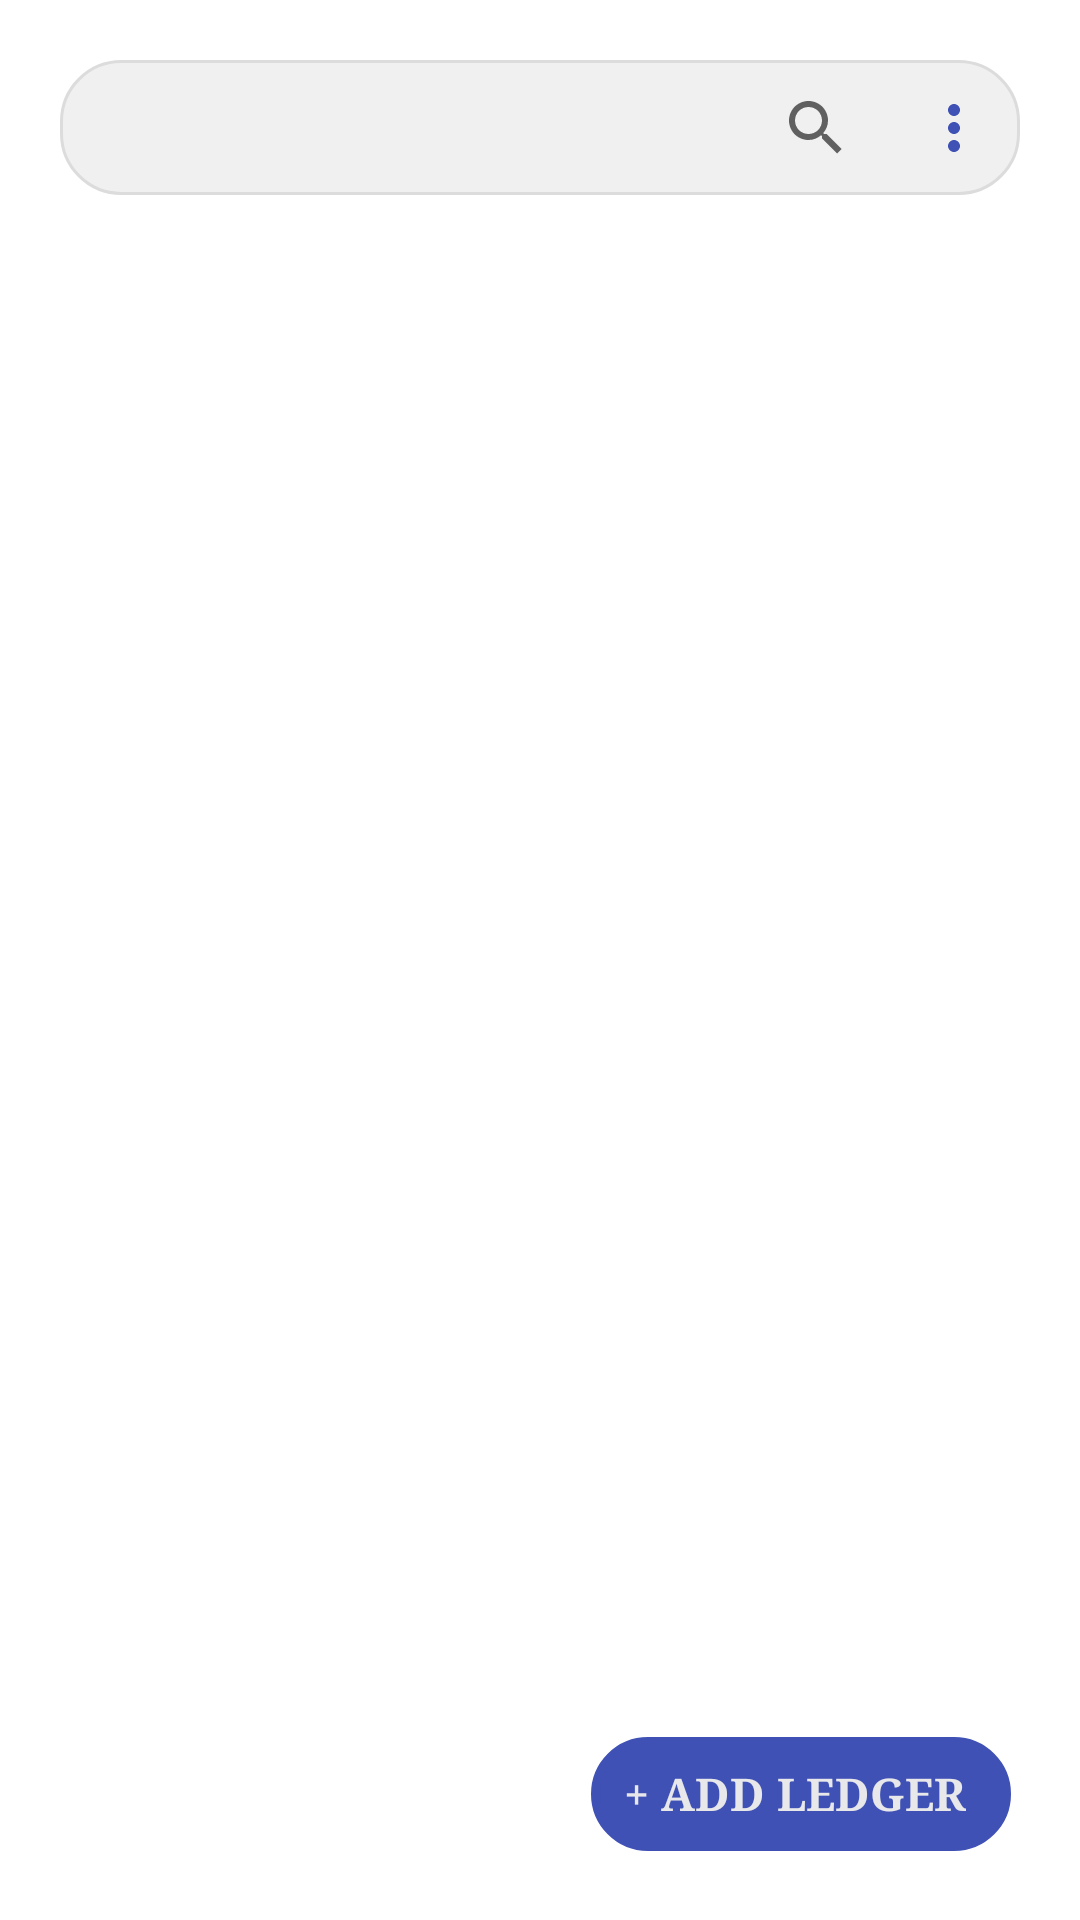

Point at icon controls on the screen. Image size 1080px x 1920px, points as [x,y].
more ver: [954,128]
